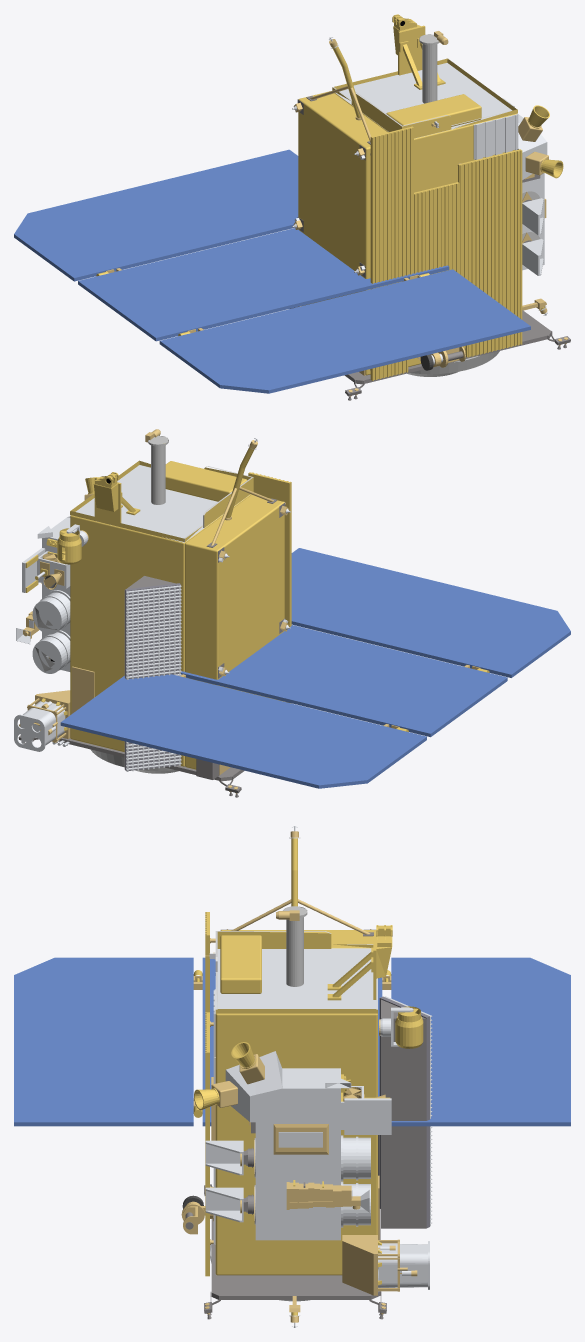
The model's file is lro-orbiter.glb.
3 renders of one model, top to bottom at view 1: azimuth 30°, elevation 25°; view 2: azimuth 150°, elevation 25°; view 3: azimuth 270°, elevation 25°, orthographic. The views are drawn at different scales.
Visible parts, largest first — view 1: Layer_4, Layer_0, Layer_1; view 2: Layer_4, Layer_0, Layer_1; view 3: Layer_0, Layer_4, Layer_1.
Part boxes in pixels (bbox=[...]): Layer_4: bbox=[14, 149, 530, 393]; Layer_0: bbox=[290, 14, 570, 400]; Layer_1: bbox=[419, 31, 448, 103]; Layer_4: bbox=[60, 548, 570, 788]; Layer_0: bbox=[14, 438, 291, 797]; Layer_1: bbox=[145, 429, 168, 504]; Layer_0: bbox=[181, 826, 432, 1327]; Layer_4: bbox=[14, 957, 570, 1126]; Layer_1: bbox=[276, 906, 307, 986].
Bounding box in the file's own units: 3.3 × 2.61 × 3.2.
